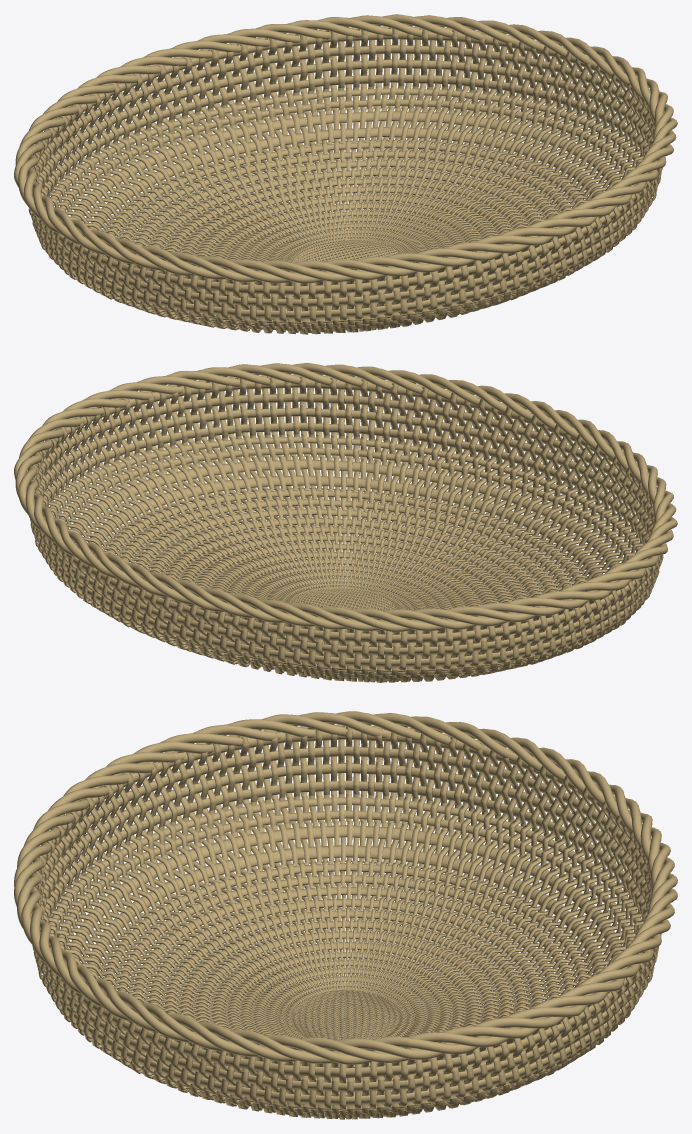
Rendered from keranjang-buah.fbx.
3 views of the same model, one above another, from view 1: azimuth 30°, elevation 25°; view 2: azimuth 150°, elevation 25°; view 3: azimuth 270°, elevation 25° (orthographic). The views are drawn at different scales.
Visible parts, largest first — view 1: keranjang, list-keranjang; view 2: keranjang, list-keranjang; view 3: keranjang, list-keranjang.
Boxes of the visible parts, x1,y1,x2,y2 form: keranjang: [27, 27, 662, 334]; list-keranjang: [14, 14, 677, 283]; keranjang: [27, 376, 664, 682]; list-keranjang: [14, 363, 677, 632]; keranjang: [29, 726, 661, 1119]; list-keranjang: [14, 711, 677, 1064].
Size of the model in its own units: 41.18 by 8.19 by 34.23.
